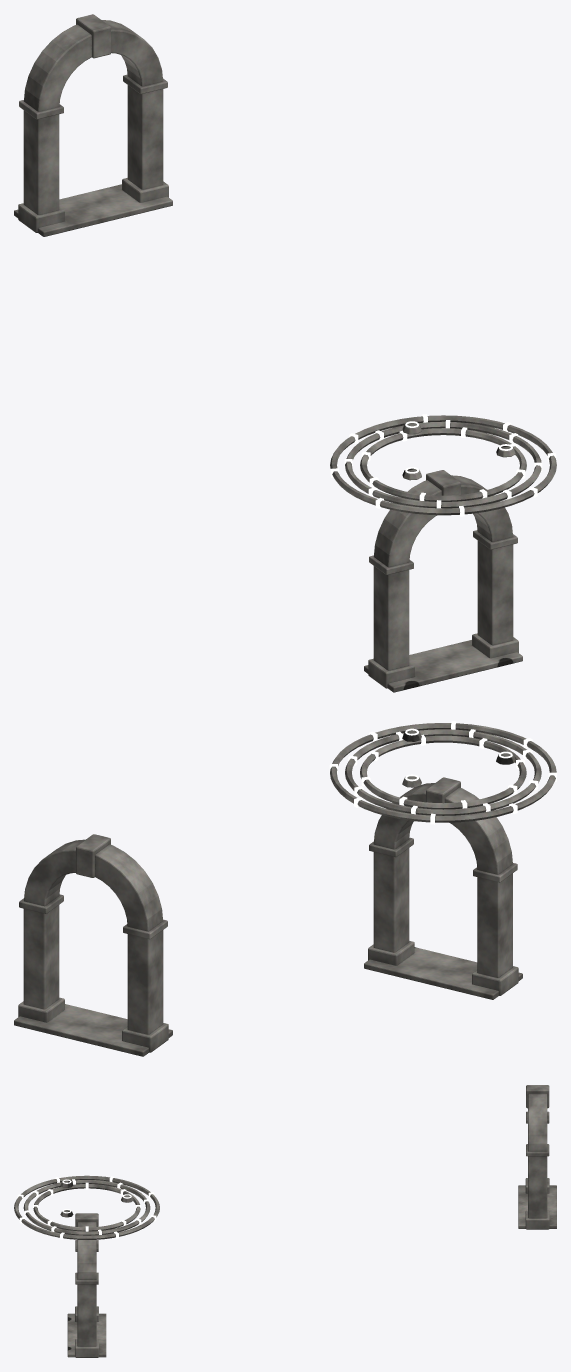
Rendered from dais.glb.
3 views of the same model, one above another, from view 1: azimuth 30°, elevation 25°; view 2: azimuth 150°, elevation 25°; view 3: azimuth 270°, elevation 25° (orthographic). The views are drawn at different scales.
Visible parts, largest first — view 1: Arch, Arch_4, Dais_Ring_3, Dais_Ring_2, Dais_Ring_1; view 2: Arch, Arch_4, Dais_Ring_3, Dais_Ring_2, Dais_Ring_1, Dais_Ring_1_Studs, Dais_Ring_3_Studs, Dais_Ring_2_Studs; view 3: Arch, Arch_4, Dais_Ring_3, Dais_Ring_2, Dais_Ring_1.
Part boxes in pixels (x1,y1,x2,y2): Arch: [14, 14, 172, 236]; Arch_4: [364, 470, 522, 692]; Dais_Ring_3: [330, 415, 556, 515]; Dais_Ring_2: [345, 421, 541, 508]; Dais_Ring_1: [360, 428, 526, 501]; Arch: [14, 834, 172, 1056]; Arch_4: [364, 777, 522, 999]; Dais_Ring_3: [330, 723, 556, 822]; Dais_Ring_2: [345, 729, 541, 815]; Dais_Ring_1: [360, 735, 526, 809]; Dais_Ring_1_Studs: [361, 734, 524, 808]; Dais_Ring_3_Studs: [329, 721, 556, 824]; Dais_Ring_2_Studs: [348, 729, 538, 814]; Arch: [518, 1085, 556, 1229]; Arch_4: [67, 1213, 106, 1357]; Dais_Ring_3: [14, 1175, 159, 1239]; Dais_Ring_2: [23, 1180, 150, 1235]; Dais_Ring_1: [33, 1184, 140, 1231].
Bounding box in the file's own units: 4.54 × 8.56 × 16.87.
2 materials, 1 textured.
